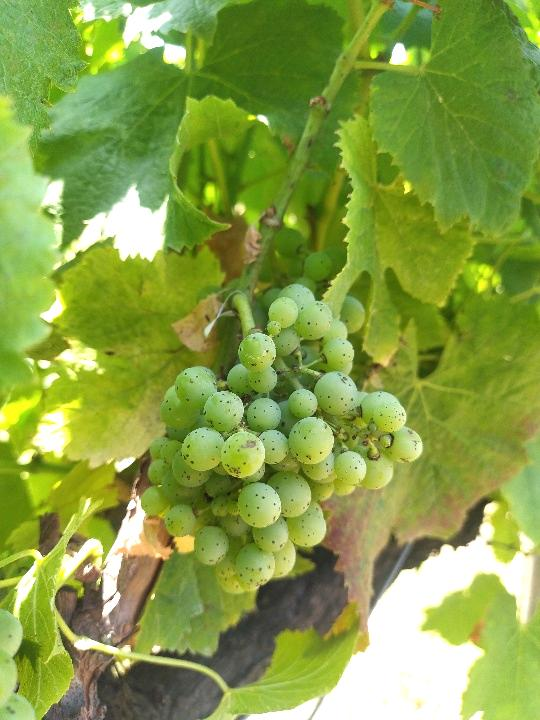grape: (140, 282, 425, 598)
